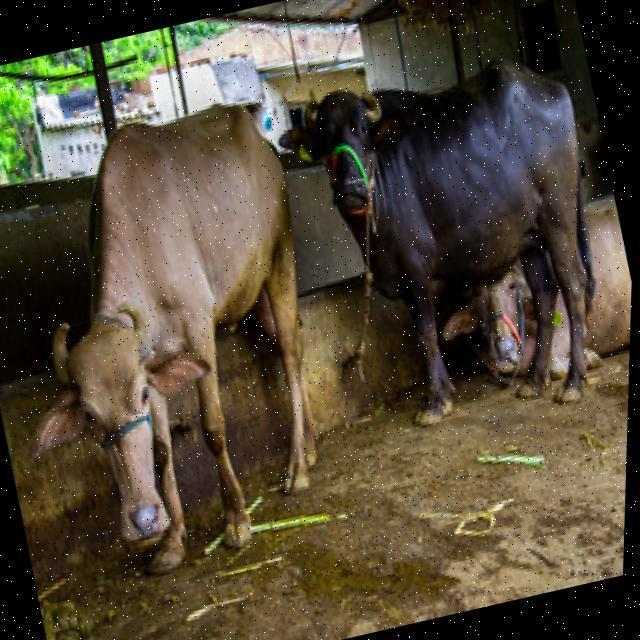Buffalo: (279, 34, 639, 453)
